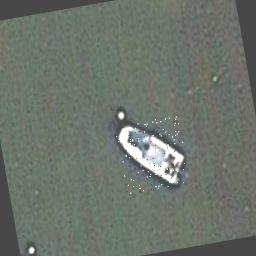boat: (114, 115, 190, 195)
